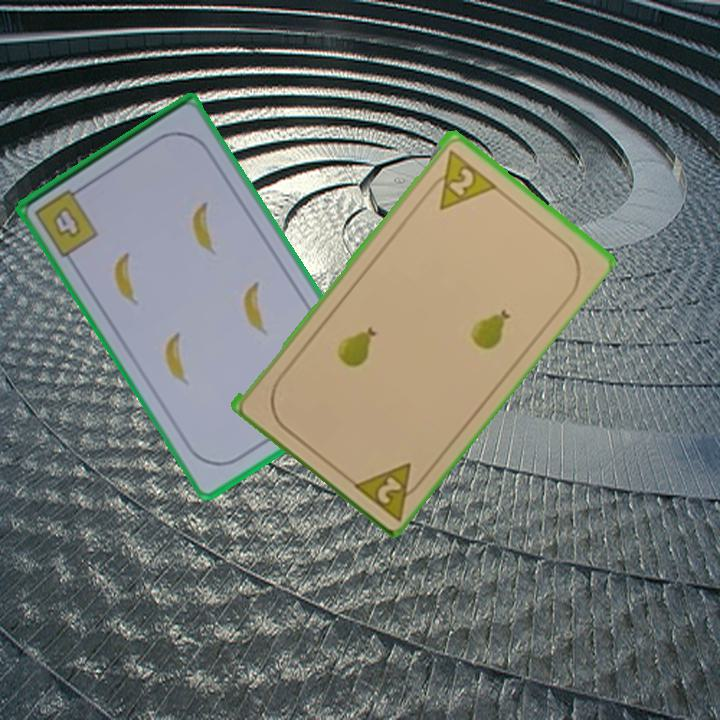2p: (347, 457, 430, 522), (422, 145, 498, 212)
4b: (49, 202, 85, 242)
